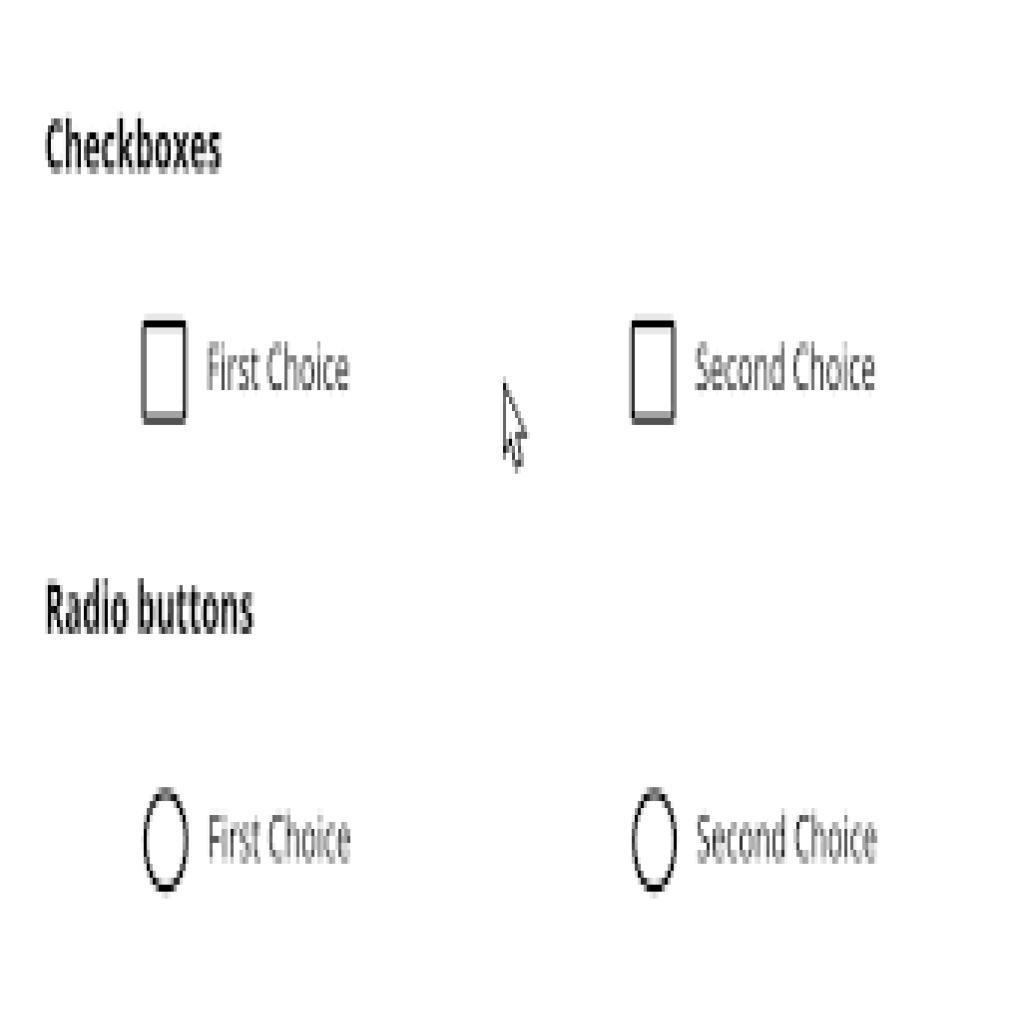checkbox: (632, 322, 678, 426), (143, 321, 187, 422)
radio: (629, 785, 681, 898), (140, 787, 194, 895)
